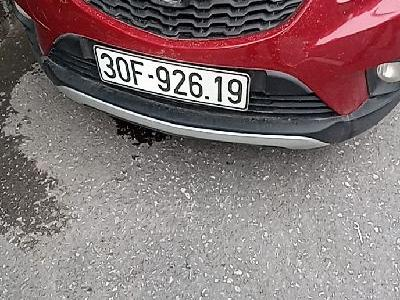lisence: (92, 43, 252, 113)
